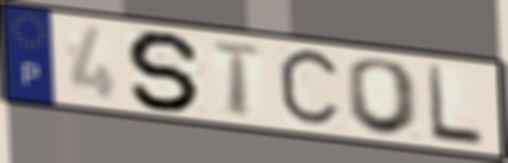4: (65, 25, 122, 104)
C: (275, 45, 345, 132)
L: (424, 62, 487, 149)
O: (345, 56, 423, 138)
S: (124, 29, 206, 114)
T: (208, 39, 267, 120)
